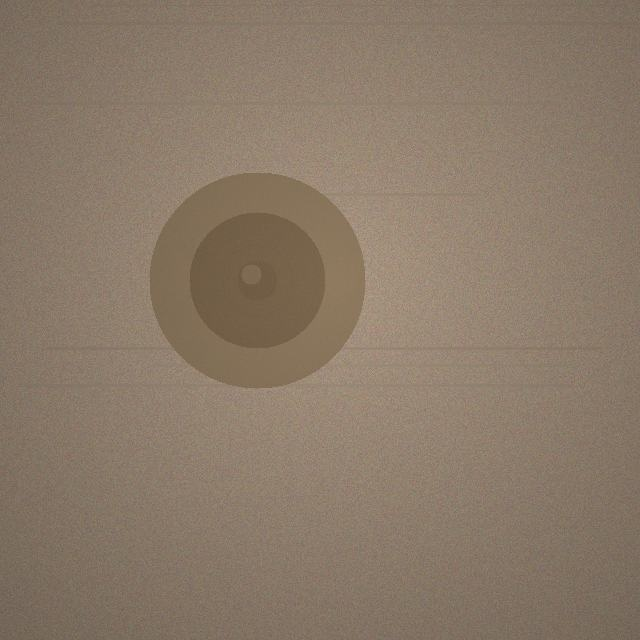good: (149, 172, 365, 388)
